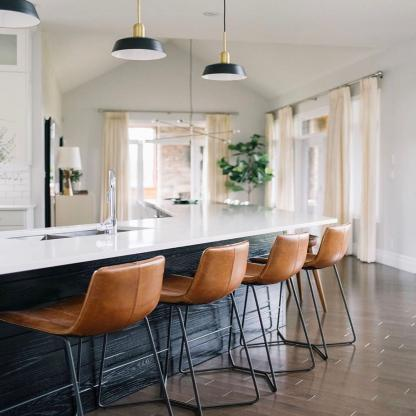chair: (0, 248, 163, 416), (165, 237, 246, 416), (250, 233, 311, 390), (309, 217, 357, 354)
light: (197, 0, 252, 89), (109, 3, 172, 65), (52, 142, 87, 195), (0, 0, 40, 36)
table: (0, 211, 336, 416)
